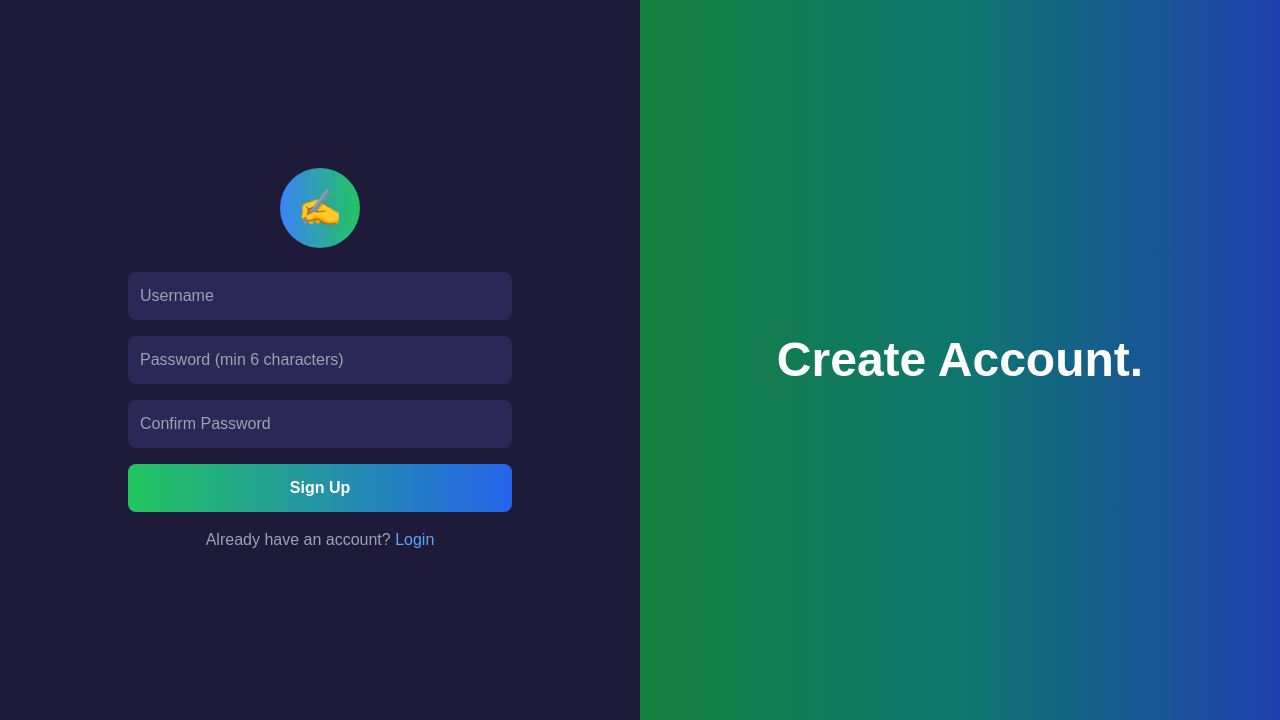
shows error on duplicate username
This screenshot has width=1280, height=720.
Type "bob" into the field with placeholder "Username" at (320, 296), box [128,272,512,320]
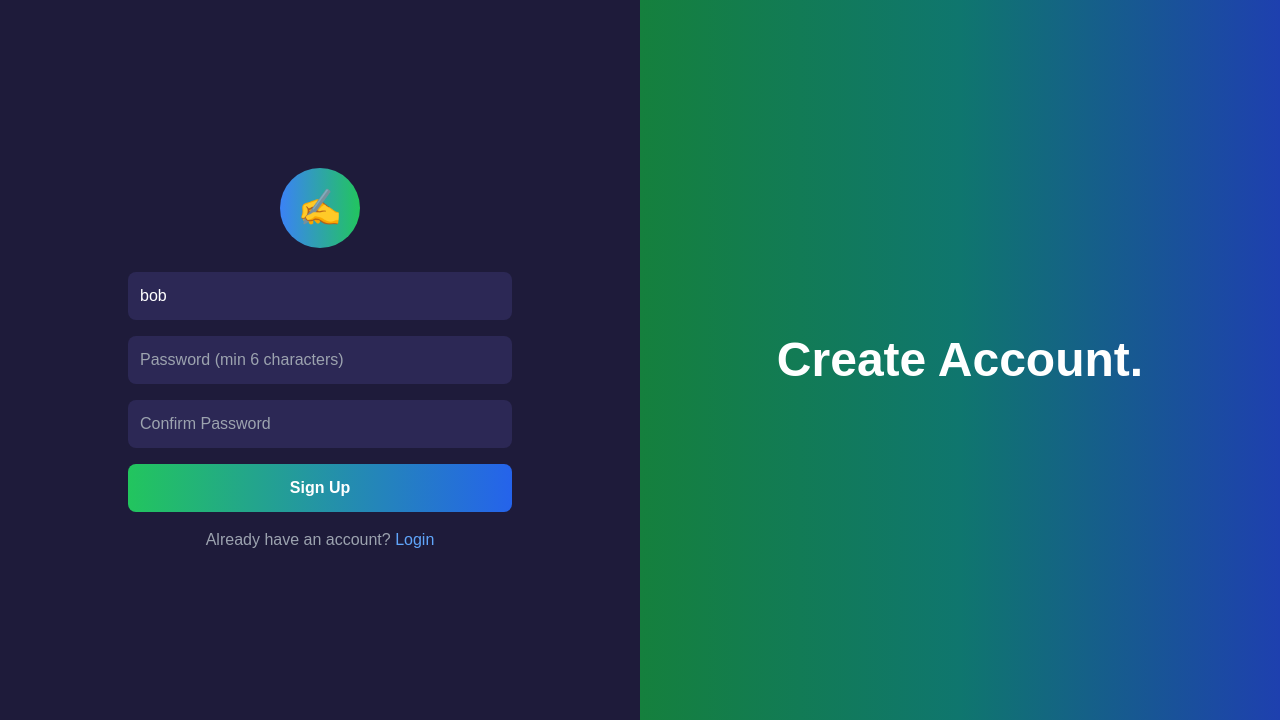
Type "secret123" into the password field with placeholder "Password (min 6 characters)" at (320, 360), box [128,336,512,384]
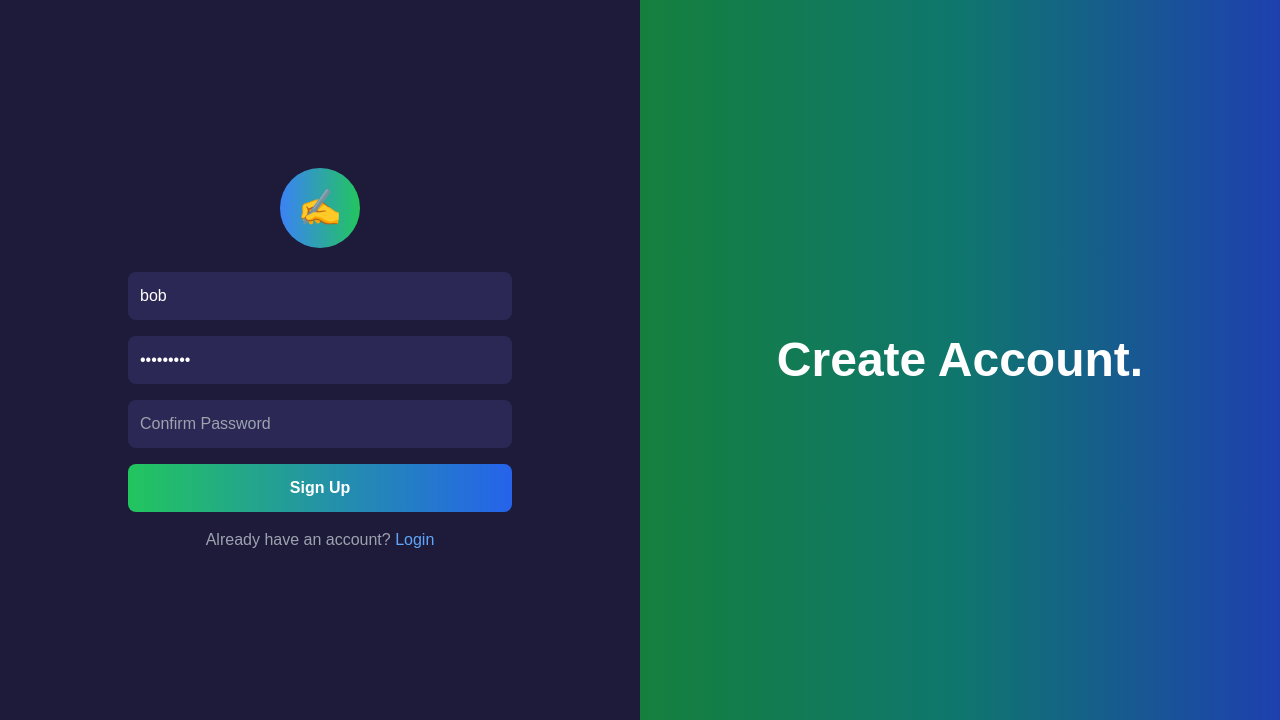
Type "secret123" into the password field with placeholder "Confirm Password" at (320, 424), box [128,400,512,448]
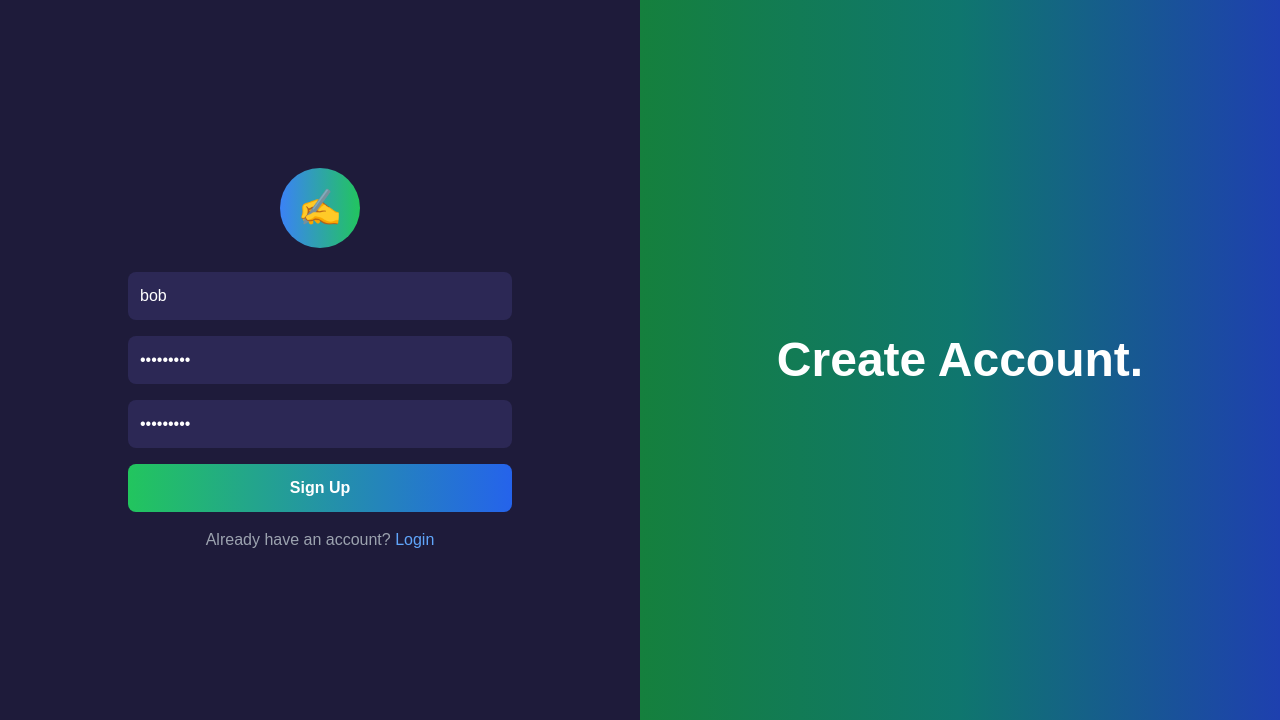
Click the button "Sign Up" at (320, 488), box [128,464,512,512]
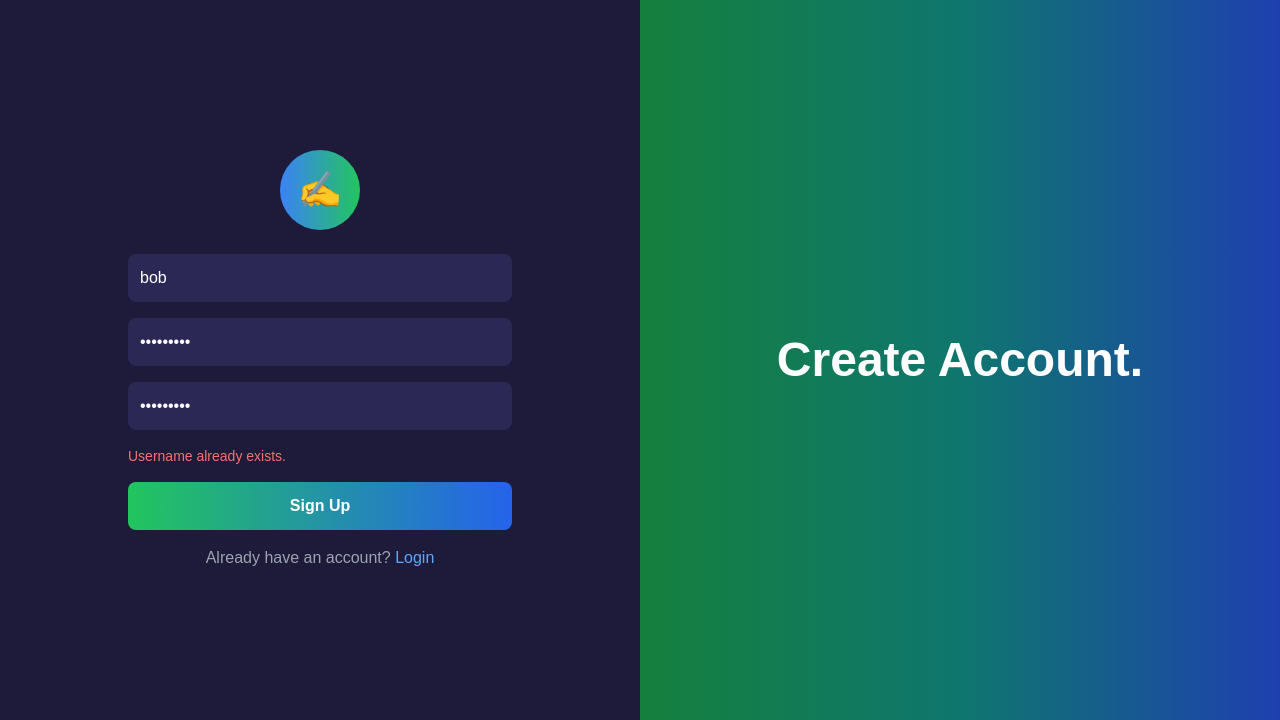
Expected: the text "Username already exists." is shown, [128,448,286,464]
